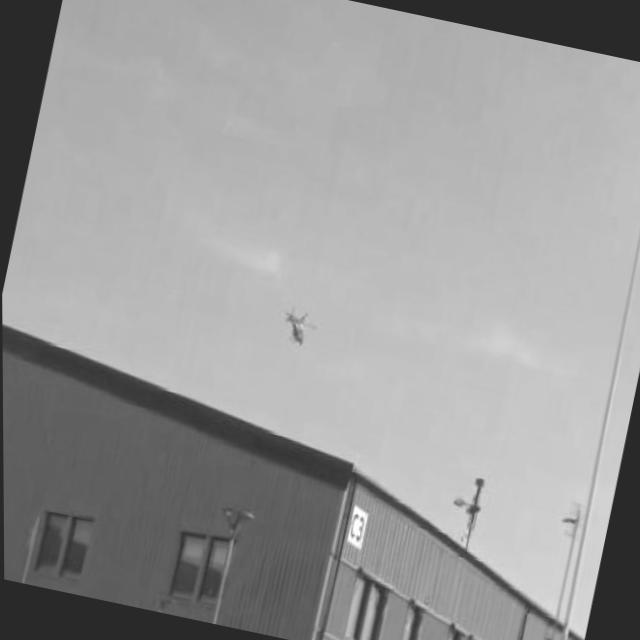helikopter: (277, 304, 319, 348)
